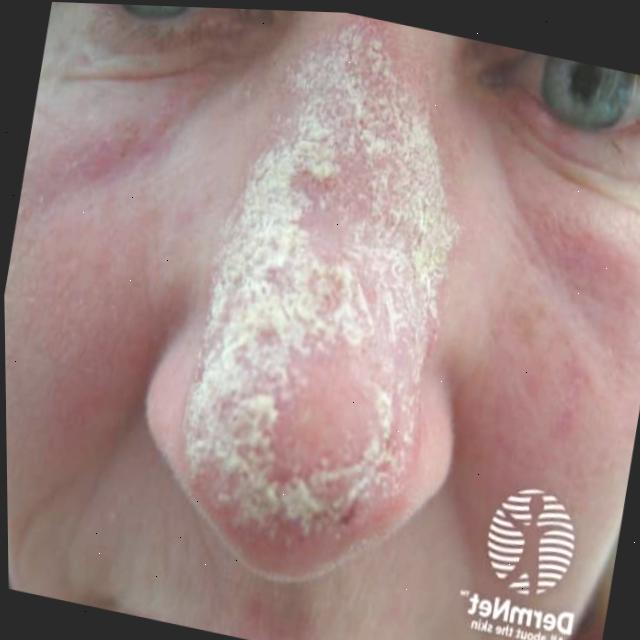lupus-detected: (103, 4, 506, 628)
